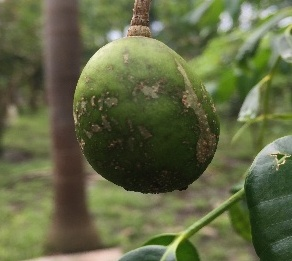Coc: (72, 33, 226, 203)
